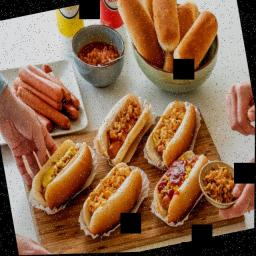hotdog: (22, 126, 104, 218), (142, 141, 222, 229), (74, 159, 158, 240), (89, 85, 156, 166), (140, 86, 212, 161)
